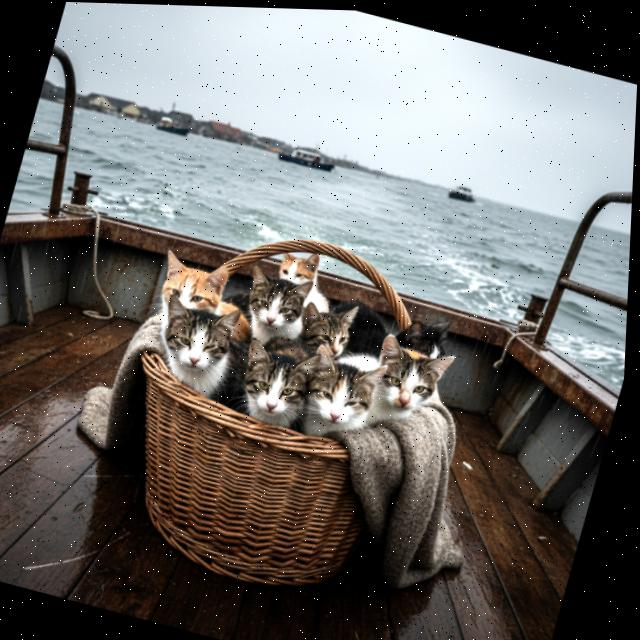cat: (132, 282, 270, 417), (137, 242, 272, 356), (323, 326, 455, 434), (284, 333, 387, 451), (219, 330, 332, 437), (344, 297, 461, 379), (226, 254, 323, 351), (283, 288, 366, 370), (266, 247, 343, 316)
